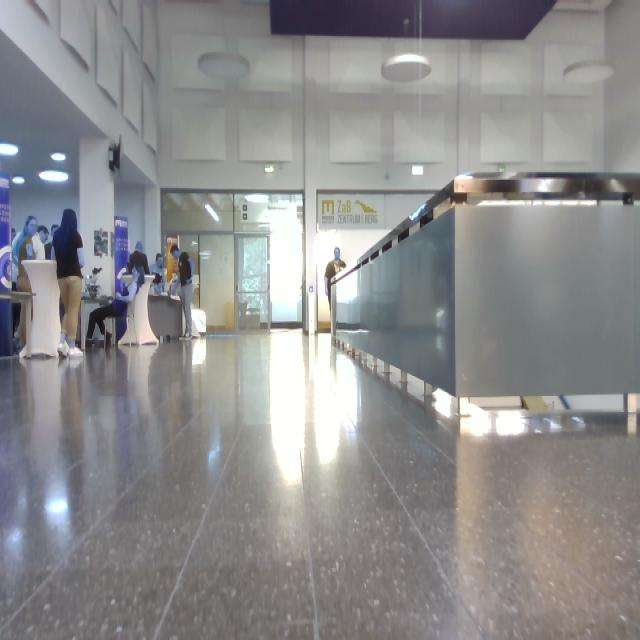door: (164, 193, 304, 330), (200, 236, 236, 332)
light bulb: (382, 54, 431, 82), (199, 53, 250, 79), (565, 61, 615, 84), (40, 171, 70, 183), (47, 499, 69, 515), (206, 205, 220, 223), (1, 145, 20, 156), (51, 153, 67, 163)
person: (54, 209, 85, 358), (14, 216, 40, 294), (325, 248, 347, 310), (21, 308, 26, 344)
staircase: (334, 176, 640, 398)
table: (24, 261, 61, 357), (120, 276, 159, 346)
tiled floor: (1, 333, 640, 639)
